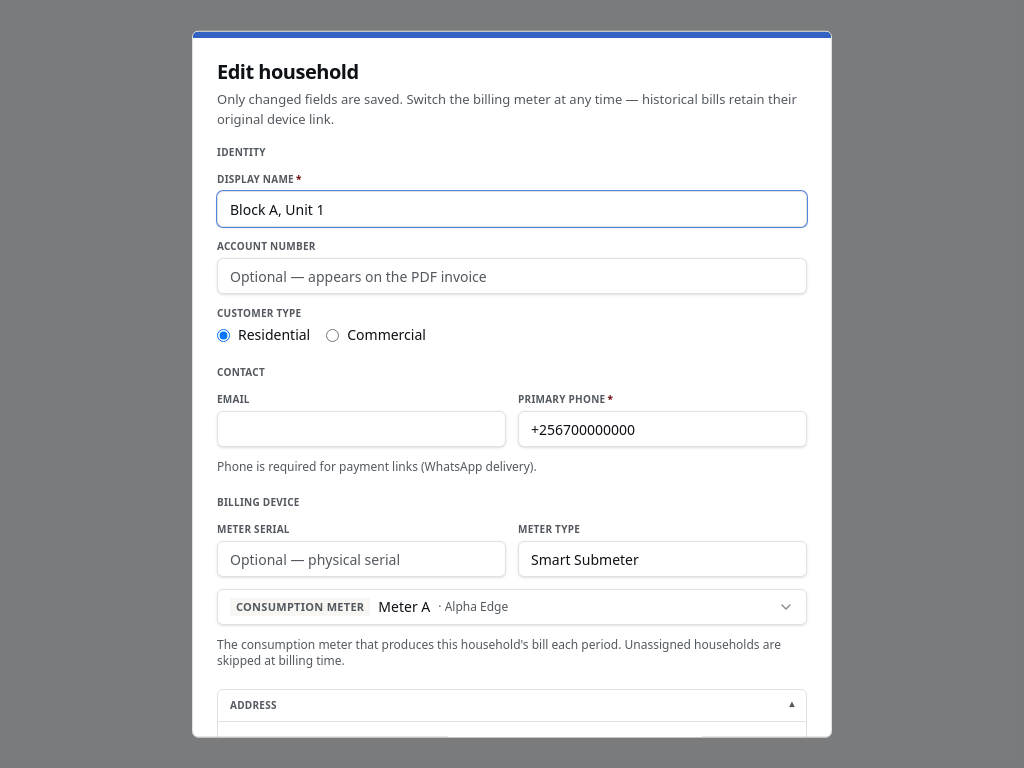
Test case: HouseholdEditDialog (#145) › (5) cancel-when-dirty opens ConfirmDialog
Step 1. Replace the text in the field labelled "Display name*" with "Edited" → (512,209), box x1=217 y1=191 x2=807 y2=227
(page scrolled)
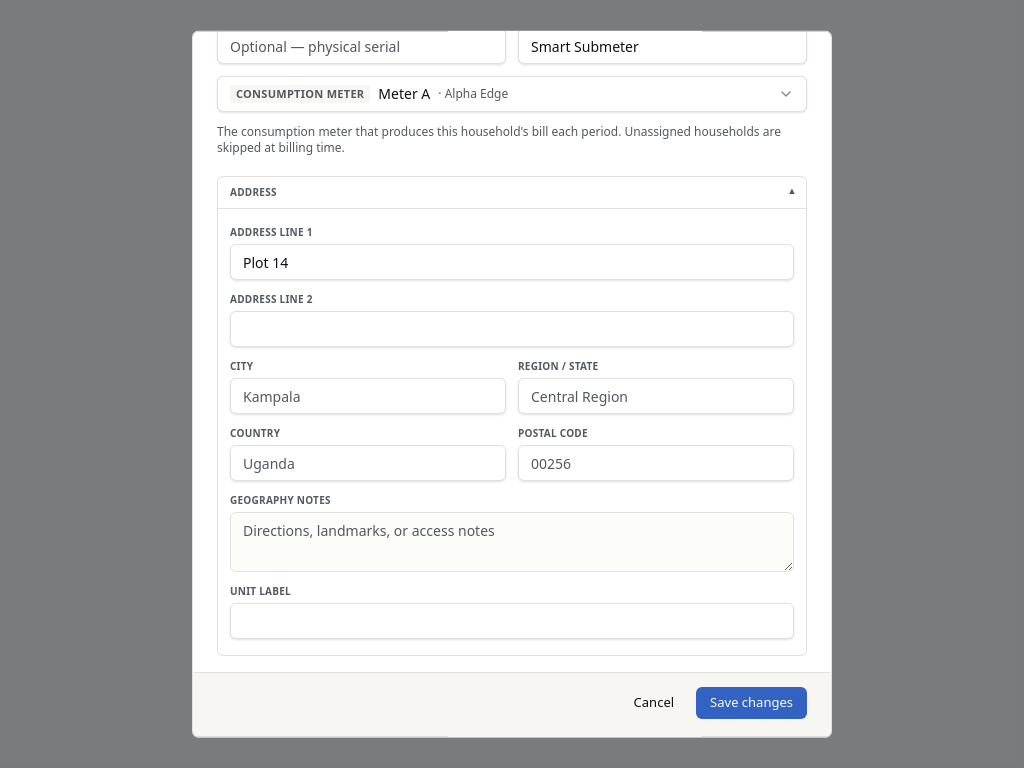
Step 2. Click the button "Cancel" → (654,703), box x1=620 y1=687 x2=688 y2=719
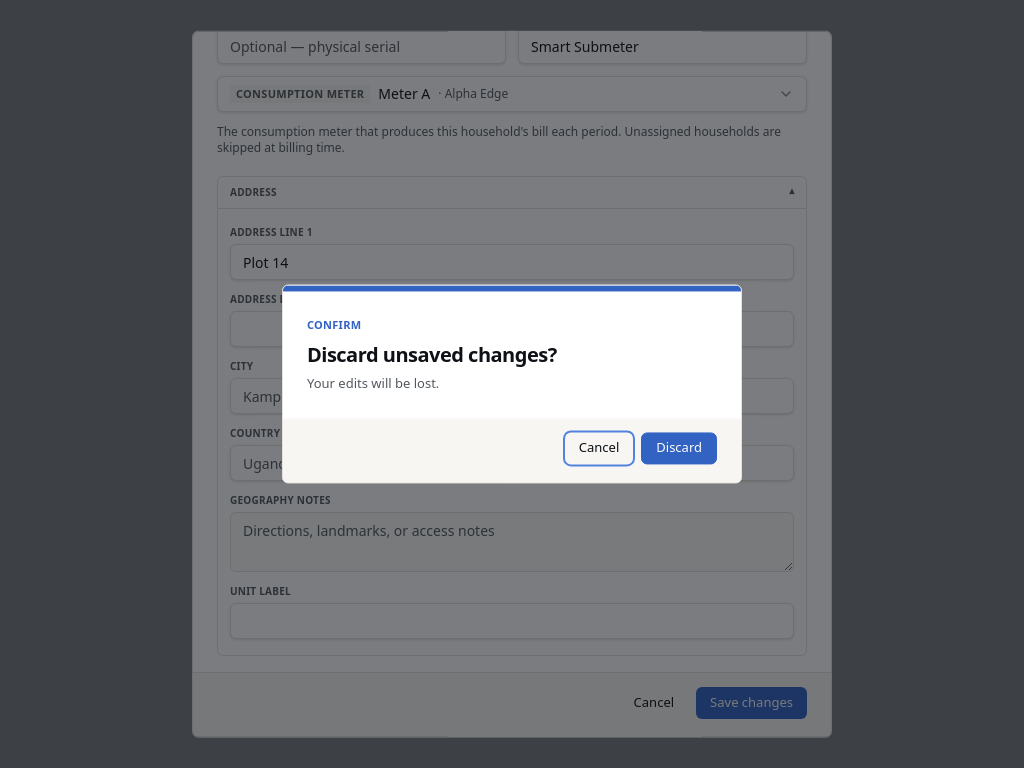
Expected: the heading "Discard unsaved changes?" is shown, x1=307 y1=341 x2=557 y2=368
